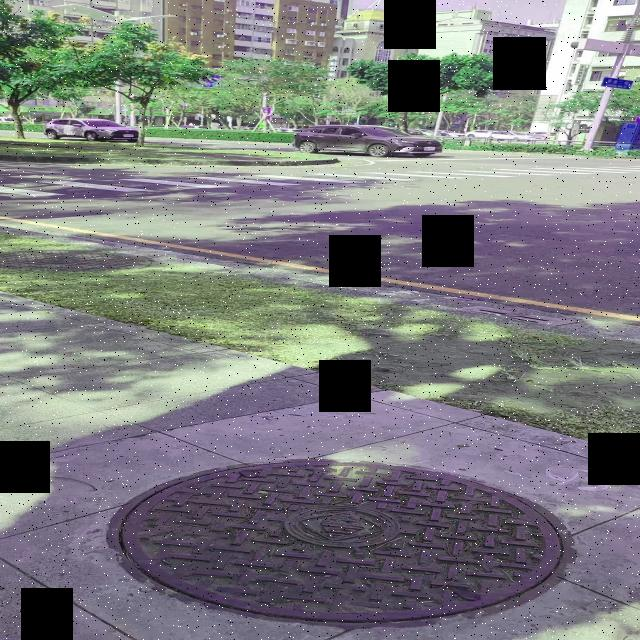zebra_crossing: (0, 164, 632, 206)
